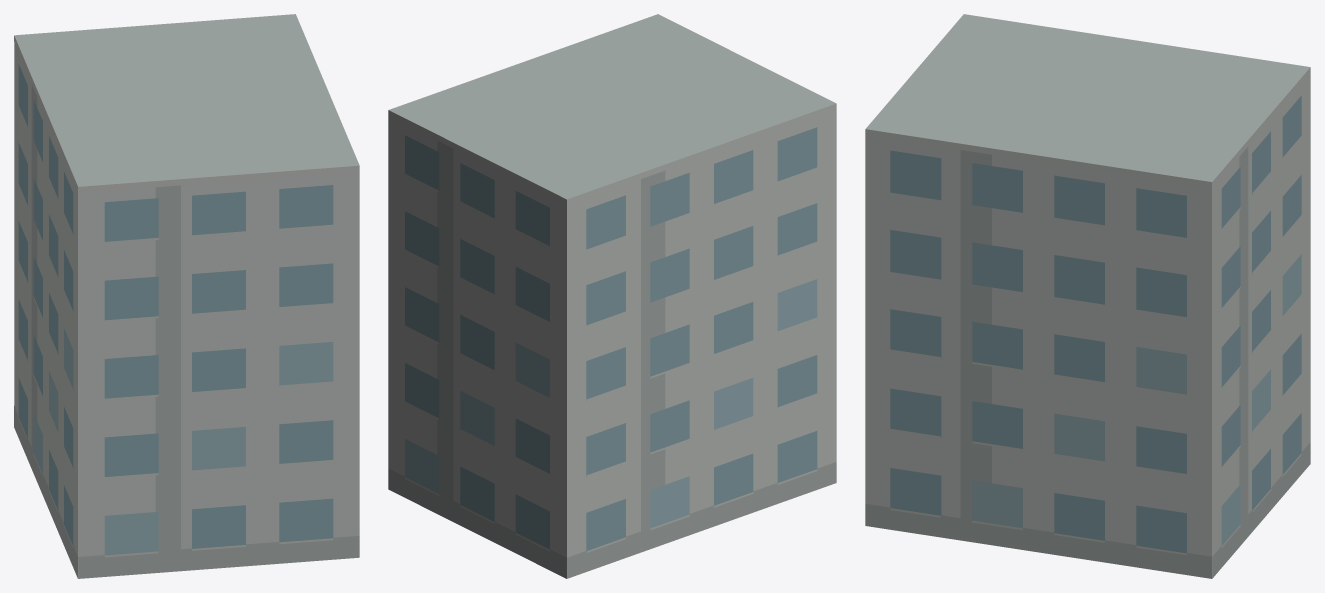
Rendered from residential-c0b33a04-c368-4b3c-9826-42dbaa8fcbce.glb.
3 views of the same model, side by side, from view 1: azimuth 30°, elevation 25°; view 2: azimuth 150°, elevation 25°; view 3: azimuth 270°, elevation 25° (orthographic). The views are drawn at different scales.
Parts seen in each view (by area): view 1: residential-c0b33a04-c368-4b3c-9826-42dbaa8fcbce.tmp; view 2: residential-c0b33a04-c368-4b3c-9826-42dbaa8fcbce.tmp; view 3: residential-c0b33a04-c368-4b3c-9826-42dbaa8fcbce.tmp.
Boxes of the visible parts, x1=… form: residential-c0b33a04-c368-4b3c-9826-42dbaa8fcbce.tmp: x1=14, y1=14, x2=359, y2=578; residential-c0b33a04-c368-4b3c-9826-42dbaa8fcbce.tmp: x1=388, y1=14, x2=836, y2=578; residential-c0b33a04-c368-4b3c-9826-42dbaa8fcbce.tmp: x1=865, y1=14, x2=1310, y2=578.
Size of the model in its own units: 13.87 by 15.25 by 15.52.
